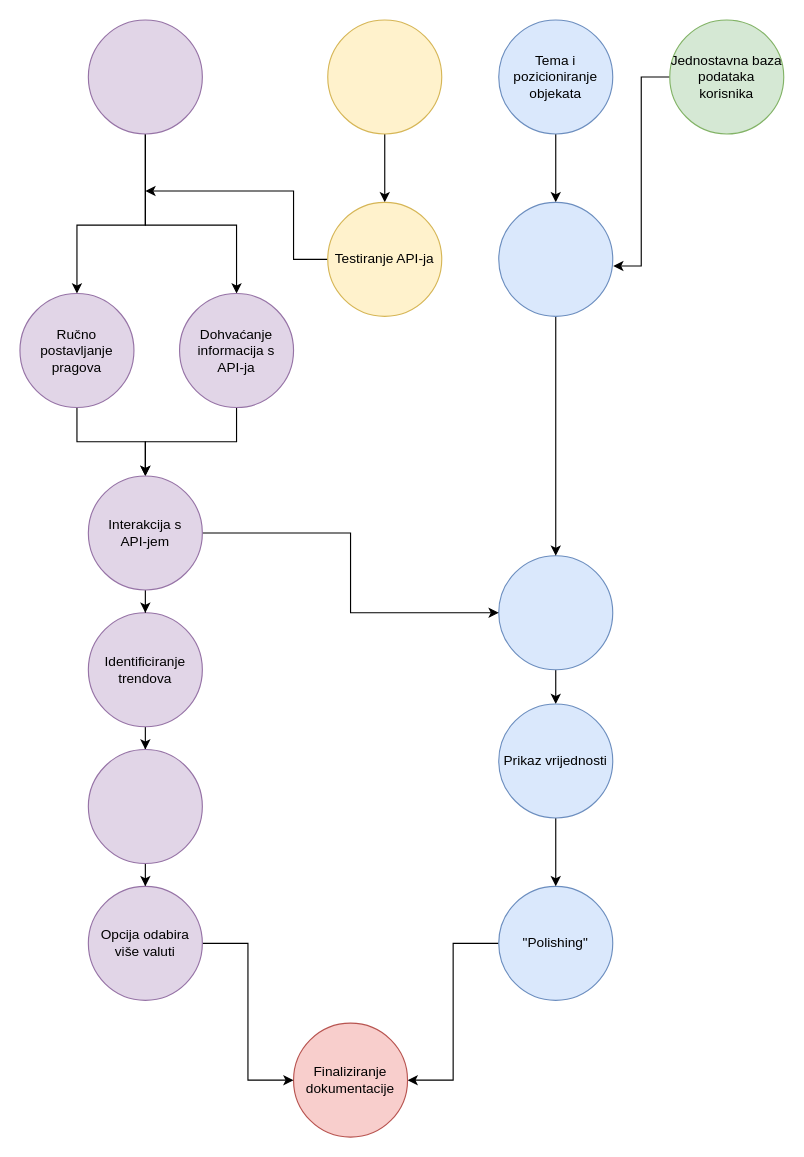
Image size: 804x1157. Some labels were removed from this diagram. The centre of each missing label's shape, as x and y in pixels:
Automatsko postavljanje pragova: point 144,806
Dizajn prijave/registracije: point 555,258
Povezivanje s botom: point 555,612
Proučavanje baza i servera: point 384,76
Proučavanje i istraživanje algoritama: point 144,76
